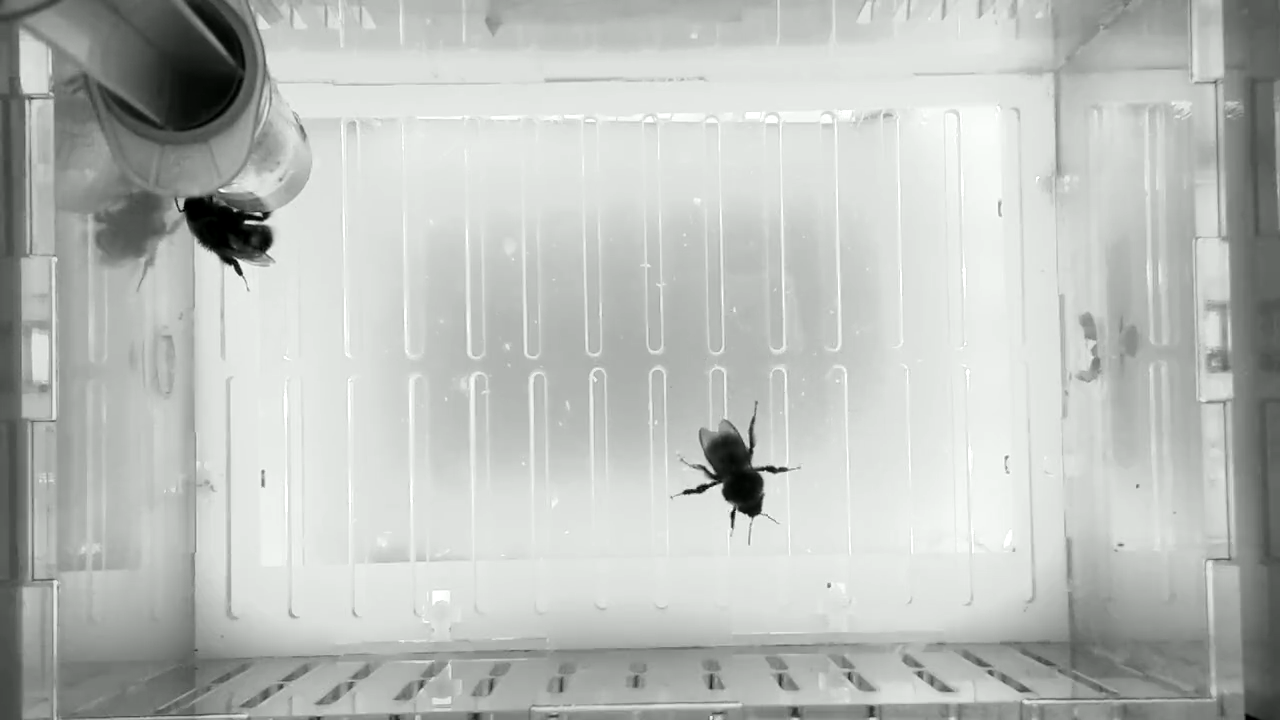bee: (672, 396, 806, 547), (172, 192, 287, 297)
feeder: (206, 79, 316, 216)
